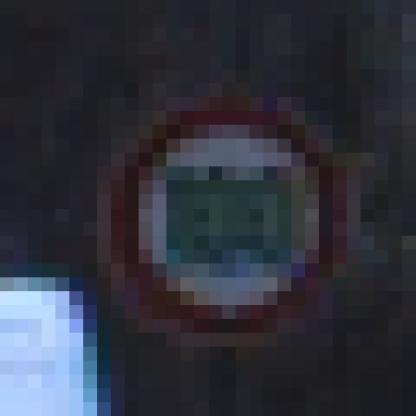Speed Limit 100: (111, 98, 342, 330)
